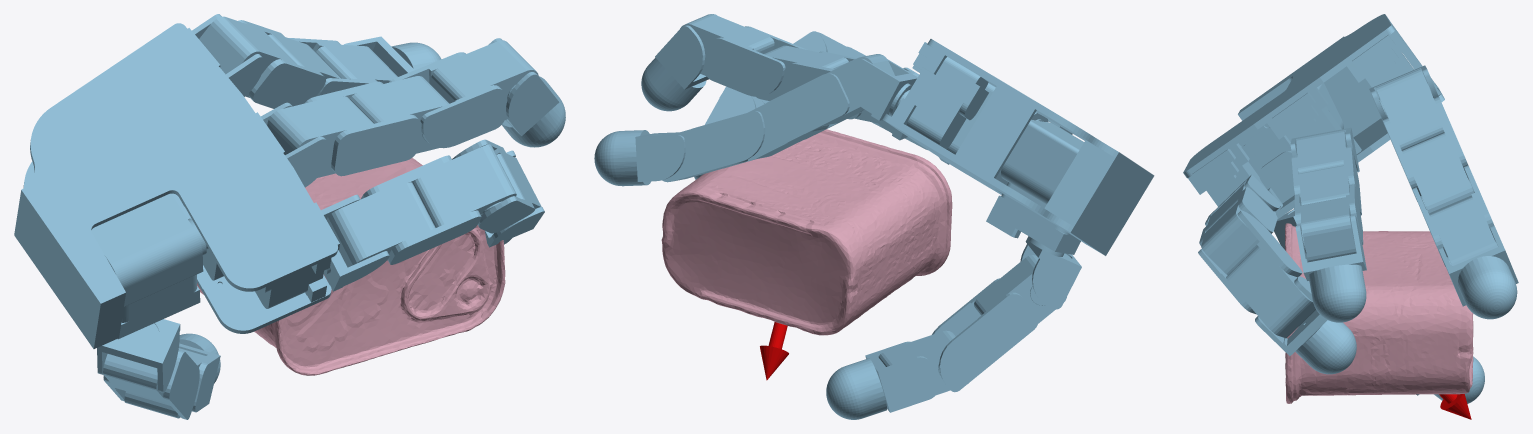
The picture shows the model from 3 angles, left to right: view 1: azimuth 30°, elevation 25°; view 2: azimuth 150°, elevation 25°; view 3: azimuth 270°, elevation 25°; orthographic projection. The views are drawn at different scales.
Visible parts, largest first — view 1: world, potted_meat_can.stl; view 2: world, potted_meat_can.stl; view 3: world, potted_meat_can.stl.
Part boxes in pixels (<box>): world: <box>14,14,565,419</box>; potted_meat_can.stl: <box>197,158,505,375</box>; world: <box>594,14,1154,419</box>; potted_meat_can.stl: <box>661,129,952,335</box>; world: <box>1183,14,1518,419</box>; potted_meat_can.stl: <box>1285,223,1473,403</box>.
Size of the model in its own units: 0.2385 by 0.1739 by 0.1485.
